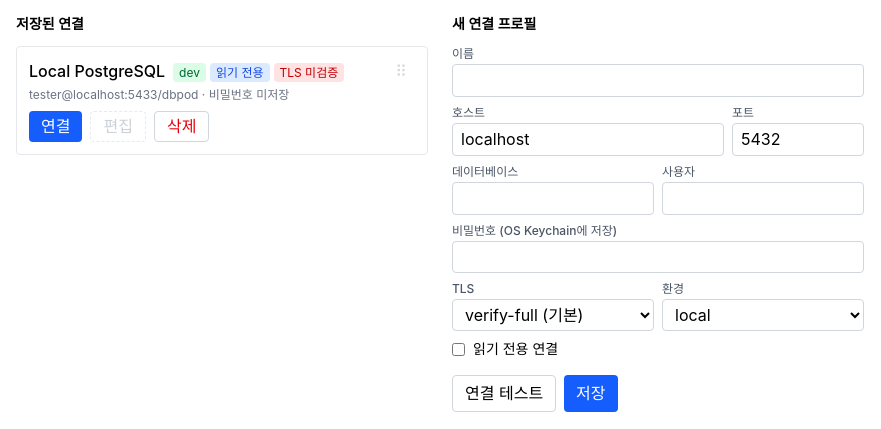
ConnectionsPage › requires disconnecting before editing a live profile
Click the button "편집": x=118, y=127 [90,111,146,142]
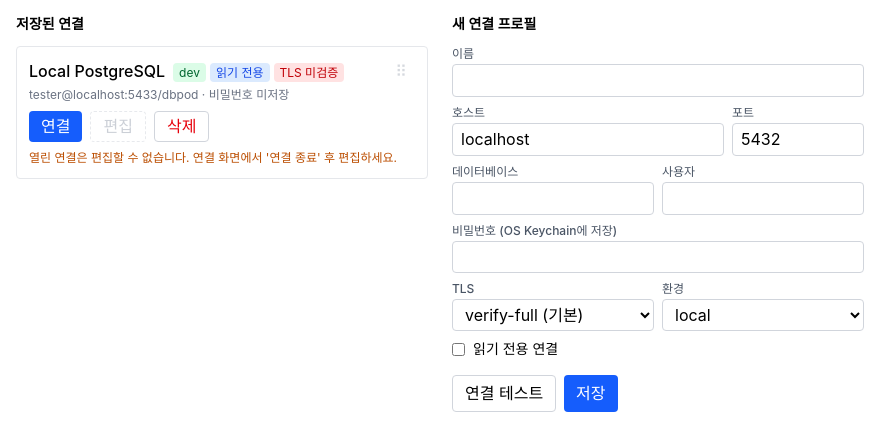
Check: the message shows "'연결 종료' 후 편집", box [29,150,397,165]
